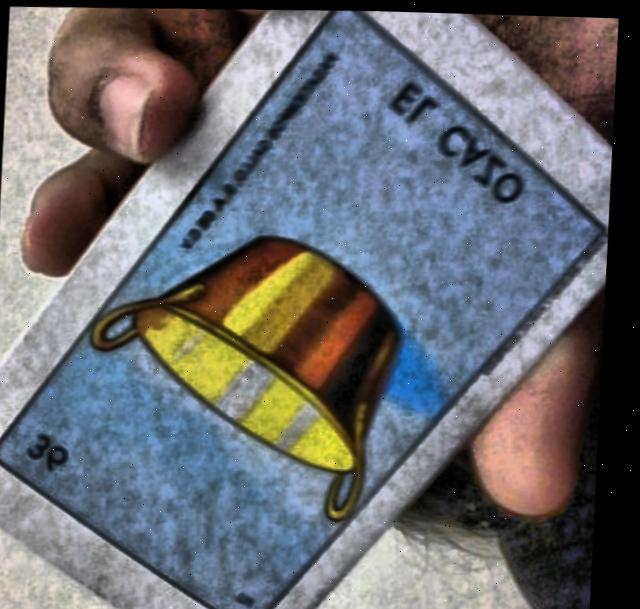El Cazo: (0, 8, 608, 609)
